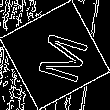M_W: (24, 26, 86, 84)
